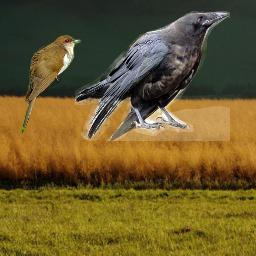Crow: (75, 11, 230, 141)
Cuckoo: (21, 34, 81, 135)
